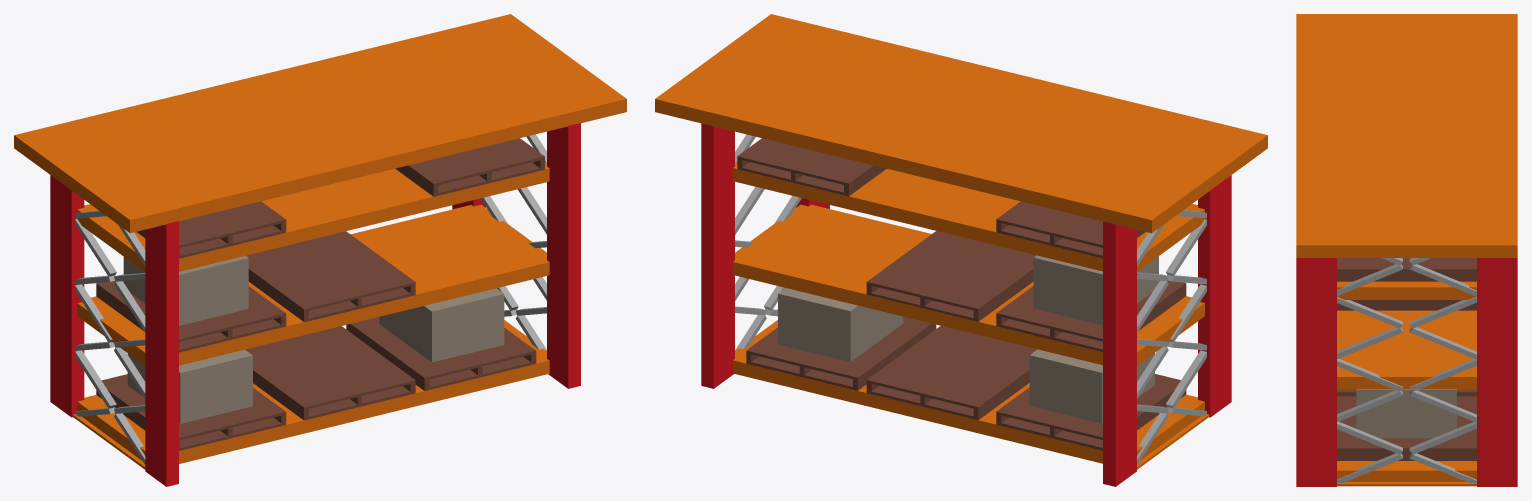
File: Rackes_Mini.fbx
The picture shows the model from 3 angles, left to right: view 1: azimuth 30°, elevation 25°; view 2: azimuth 150°, elevation 25°; view 3: azimuth 270°, elevation 25°; orthographic projection. The views are drawn at different scales.
Visible parts, largest first — view 1: Cube.112, Cube.100, Cube.101, Cube.124, Cube.116, Cube.115, Cube.121, Cube.117, Cube.102, Cube.113, Cube.120, Cube.114 (+1 smaller); view 2: Cube.112, Cube.100, Cube.101, Cube.124, Cube.116, Cube.115, Cube.121, Cube.117, Cube.102, Cube.113, Cube.120, Cube.114 (+1 smaller); view 3: Cube.101, Cube.100, Cube.102, Cube.112, Cube.113, Cube.120, Cube.114, Cube.123, Cube.121, Cube.119, Cube.115.
Part boxes in pixels (x1,y1,x2,y2): Cube.112: (77, 162, 549, 463); Cube.100: (14, 74, 381, 233); Cube.101: (266, 14, 626, 172); Cube.124: (50, 175, 178, 486); Cube.116: (96, 201, 286, 450); Cube.115: (245, 326, 415, 420); Cube.121: (246, 231, 415, 322); Cube.117: (123, 255, 252, 423); Cube.102: (452, 123, 580, 388); Cube.113: (75, 134, 546, 464); Cube.120: (379, 288, 504, 362); Cube.114: (346, 317, 536, 390); Cube.112: (733, 162, 1204, 463); Cube.100: (900, 74, 1267, 233); Cube.101: (655, 14, 1015, 172); Cube.124: (1103, 175, 1231, 486); Cube.116: (996, 201, 1186, 450); Cube.115: (866, 326, 1036, 420); Cube.121: (866, 231, 1036, 321); Cube.117: (1029, 255, 1158, 423); Cube.102: (701, 123, 829, 388); Cube.113: (735, 134, 1206, 464); Cube.120: (778, 288, 903, 361); Cube.114: (746, 316, 936, 390); Cube.101: (1296, 131, 1517, 257); Cube.100: (1296, 14, 1517, 130); Cube.102: (1296, 258, 1517, 486); Cube.112: (1337, 281, 1476, 481); Cube.113: (1337, 258, 1476, 482); Cube.120: (1356, 389, 1456, 438); Cube.114: (1337, 396, 1476, 460); Cube.123: (1337, 258, 1476, 281); Cube.121: (1337, 300, 1476, 310); Cube.119: (1337, 482, 1476, 486); Cube.115: (1337, 389, 1476, 396).
Size of the model in its own units: 1113 by 591 by 450.
